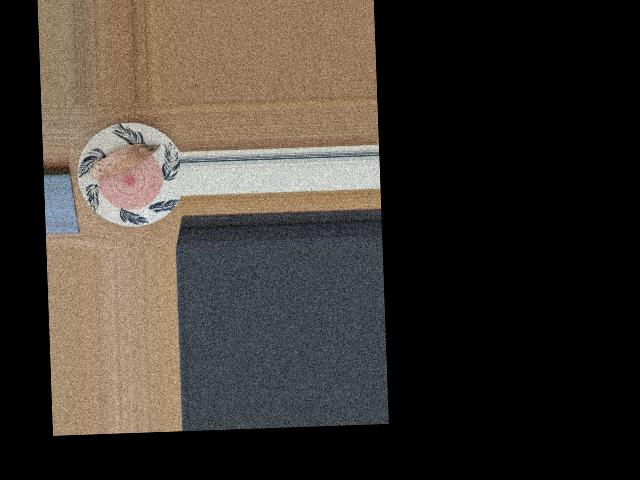sweet_potato: (93, 143, 154, 181)
